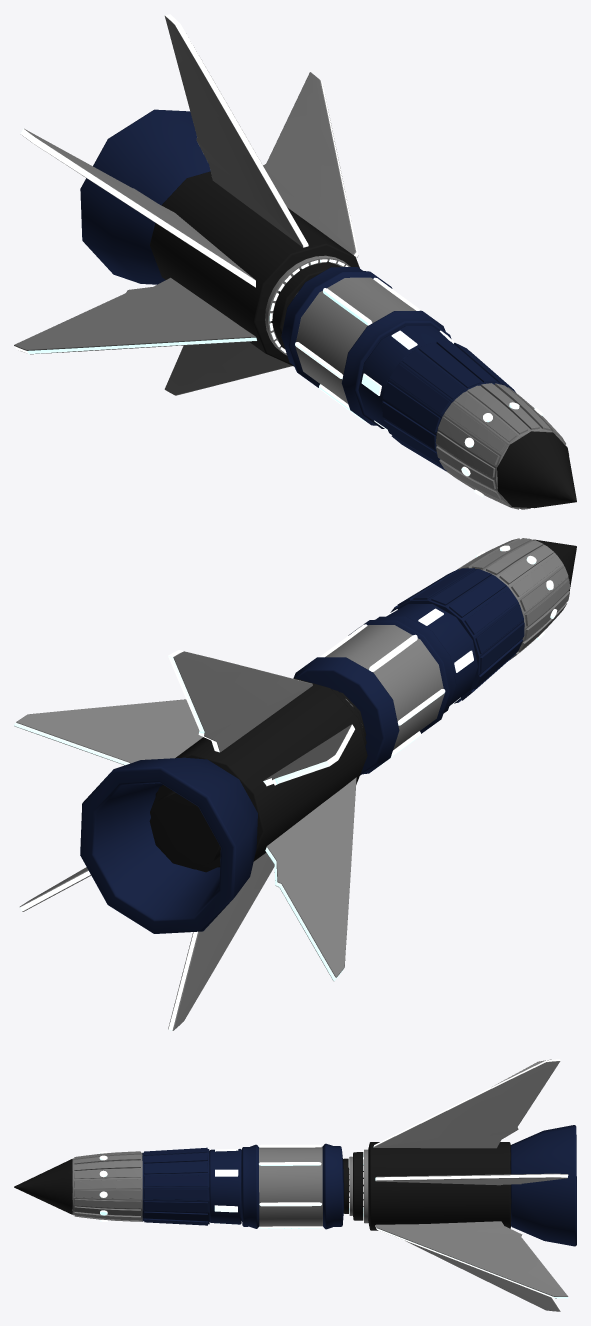
File: Missil.fbx
3 views of the same model, one above another, from view 1: azimuth 30°, elevation 25°; view 2: azimuth 150°, elevation 25°; view 3: azimuth 270°, elevation 25° (orthographic). The views are drawn at different scales.
Parts seen in each view (by area): view 1: Missil; view 2: Missil; view 3: Missil.
Boxes of the visible parts, box(x1,y1,x2,y2) form: Missil: box(14, 14, 576, 509); Missil: box(14, 538, 576, 1030); Missil: box(14, 1059, 576, 1311).
Size of the model in its own units: 1.8 by 2.08 by 4.22.
